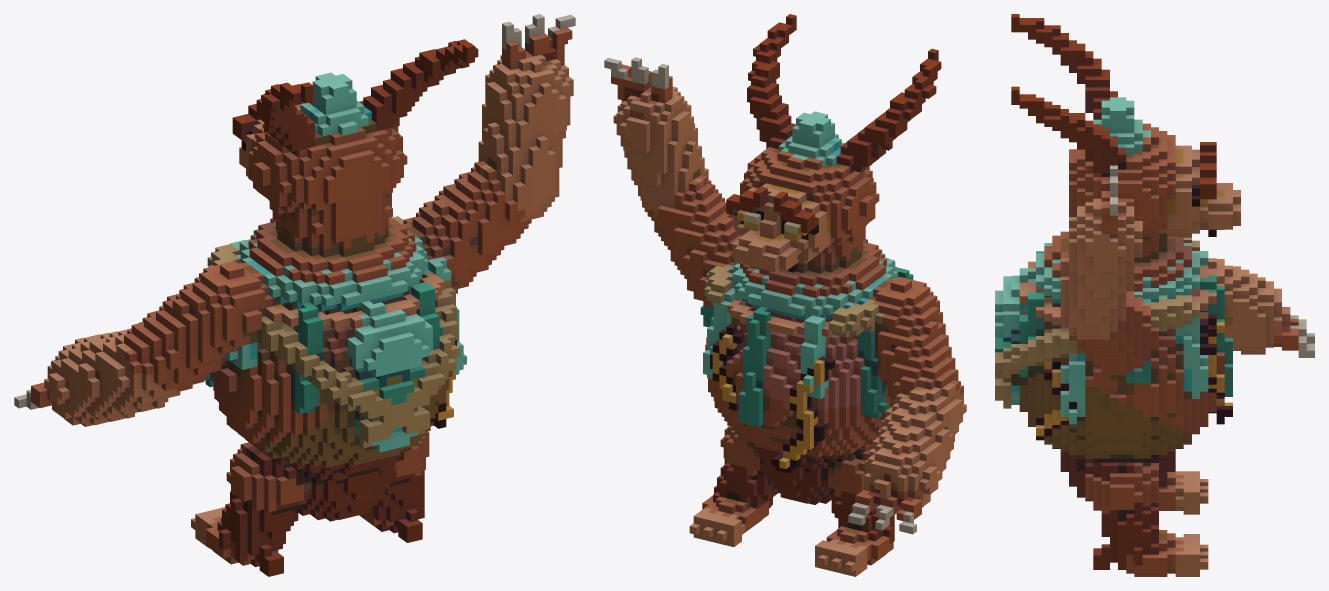
The model's file is Clayling.glb.
3 renders of one model, left to right at view 1: azimuth 30°, elevation 25°; view 2: azimuth 150°, elevation 25°; view 3: azimuth 270°, elevation 25°, orthographic. The views are drawn at different scales.
Parts seen in each view (by area): view 1: Body__Tex, Head__Tex, ArmR2__Tex, ArmL1__Tex, LegL1__Tex, ArmL2__Tex, ArmR1__Tex, LegR1__Tex; view 2: Body__Tex, Head__Tex, ArmL2__Tex, ArmR2__Tex, ArmL1__Tex, ArmR1__Tex, LegR1__Tex, LegL1__Tex; view 3: Body__Tex, Head__Tex, ArmR2__Tex, LegR1__Tex, ArmL2__Tex, ArmR1__Tex, LegL1__Tex.
Boxes of the visible parts, x1=… form: Body__Tex: x1=204, y1=216, x2=466, y2=521; Head__Tex: x1=232, y1=39, x2=478, y2=257; ArmR2__Tex: x1=478, y1=14, x2=575, y2=221; ArmL1__Tex: x1=124, y1=261, x2=276, y2=391; LegL1__Tex: x1=191, y1=442, x2=311, y2=576; ArmL2__Tex: x1=14, y1=328, x2=180, y2=426; ArmR1__Tex: x1=401, y1=161, x2=531, y2=293; LegR1__Tex: x1=359, y1=431, x2=429, y2=542; Body__Tex: x1=700, y1=239, x2=913, y2=504; Head__Tex: x1=726, y1=14, x2=941, y2=273; ArmL2__Tex: x1=848, y1=376, x2=966, y2=534; ArmR2__Tex: x1=604, y1=57, x2=708, y2=218; ArmL1__Tex: x1=870, y1=276, x2=963, y2=407; ArmR1__Tex: x1=647, y1=175, x2=740, y2=307; LegR1__Tex: x1=689, y1=426, x2=777, y2=547; LegL1__Tex: x1=815, y1=445, x2=894, y2=576; Body__Tex: x1=995, y1=231, x2=1232, y2=501; Head__Tex: x1=1011, y1=14, x2=1240, y2=262; ArmR2__Tex: x1=1060, y1=165, x2=1142, y2=339; LegR1__Tex: x1=1085, y1=458, x2=1208, y2=576; ArmL2__Tex: x1=1208, y1=258, x2=1314, y2=357; ArmR1__Tex: x1=1069, y1=291, x2=1158, y2=375; LegL1__Tex: x1=1159, y1=471, x2=1208, y2=514.
Size of the model in its own units: 3.83 by 4.22 by 2.53.
